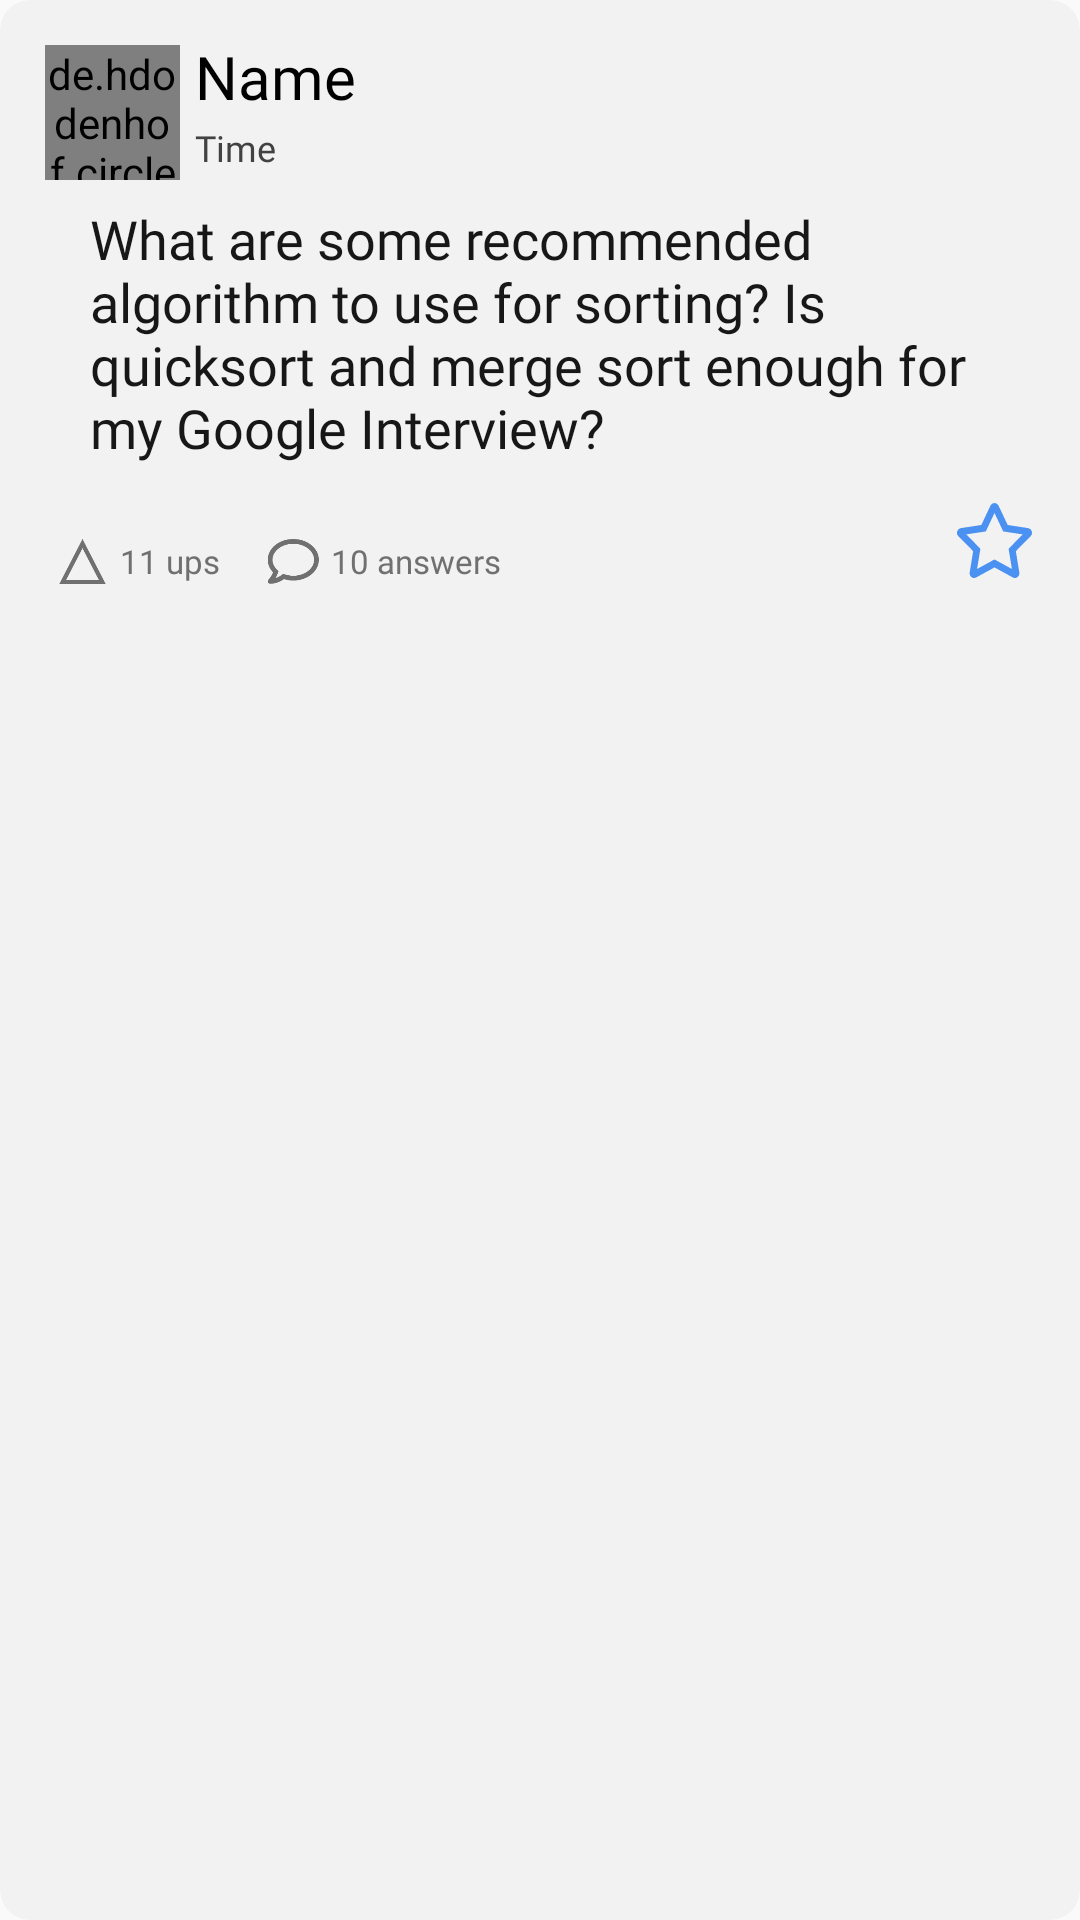

Icon click points for this 1080 × 1920 phone screenshot, format point (x, y):
comment: point (293, 561)
empty triangle: point (82, 561)
star: point (994, 540)
